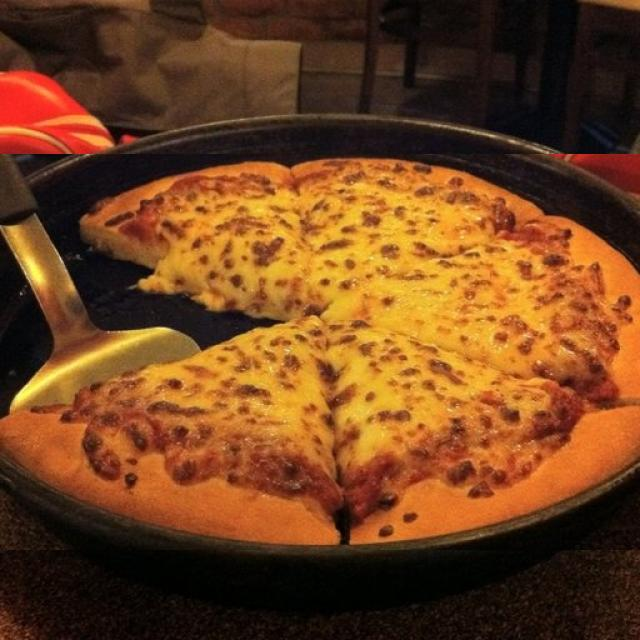pizza: (0, 154, 640, 550)
